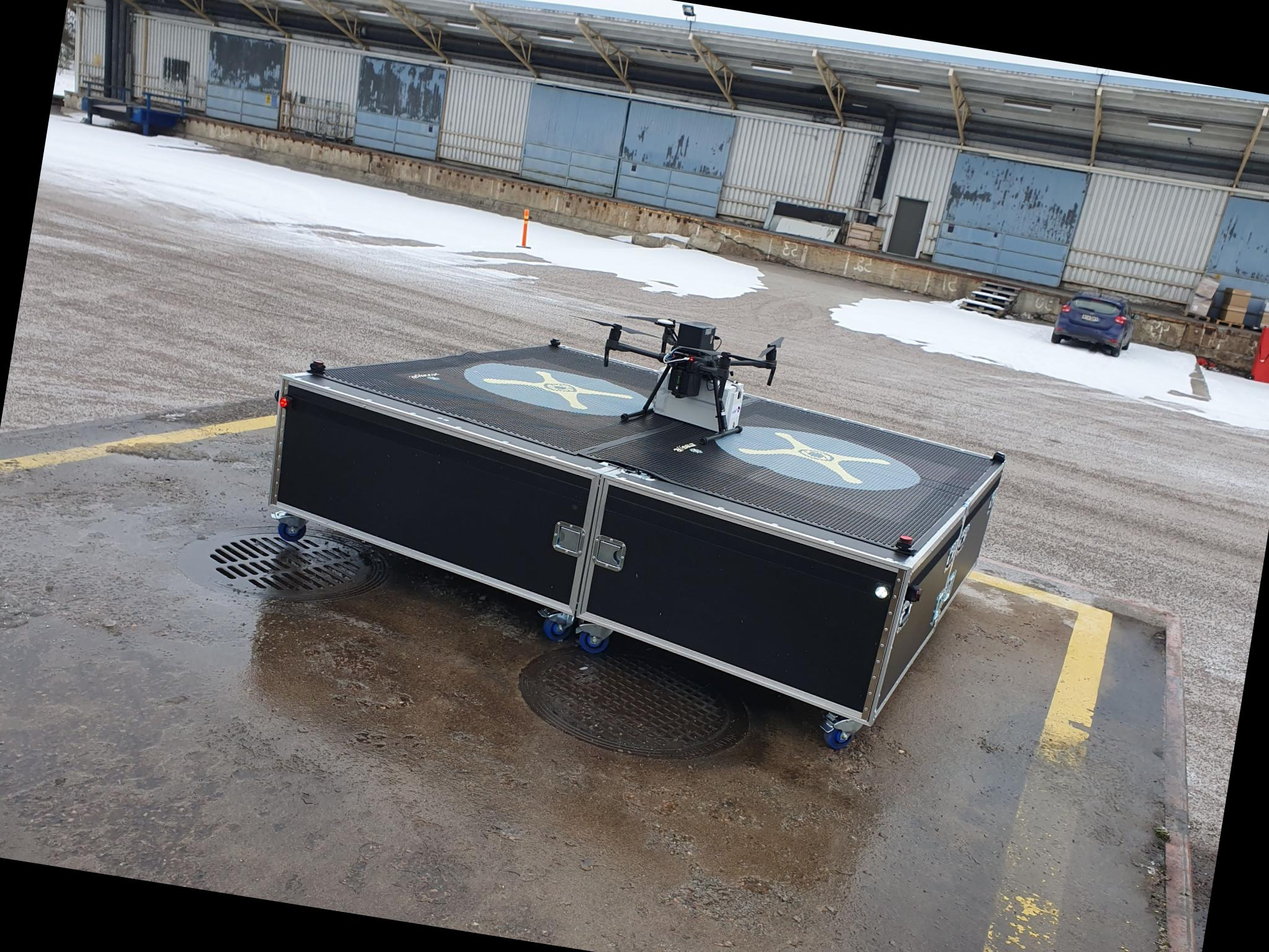drone: (561, 284, 793, 403)
